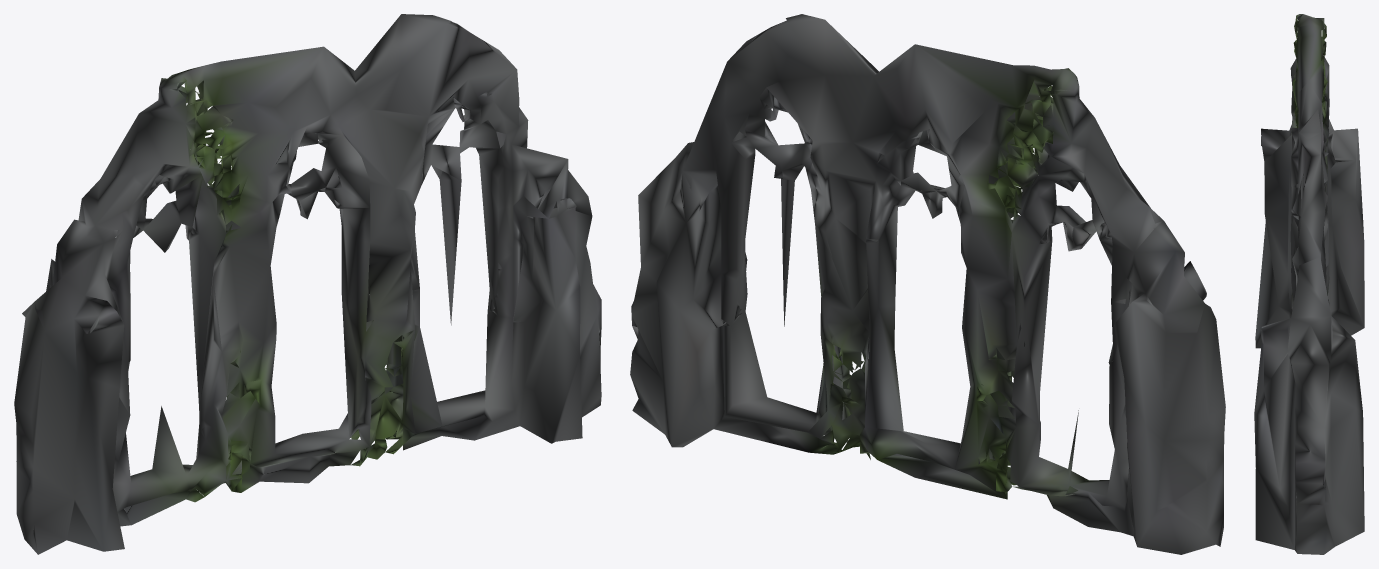
The model's file is hero_wall_lod2.glb.
3 views of the same model, side by side, from view 1: azimuth 30°, elevation 25°; view 2: azimuth 150°, elevation 25°; view 3: azimuth 270°, elevation 25° (orthographic). The views are drawn at different scales.
Parts seen in each view (by area): view 1: hero_wall; view 2: hero_wall; view 3: hero_wall.
Boxes of the visible parts, x1=… form: hero_wall: x1=14, y1=14, x2=601, y2=554; hero_wall: x1=630, y1=14, x2=1225, y2=554; hero_wall: x1=1254, y1=14, x2=1364, y2=554.
Size of the model in its own units: 2.29 by 1.69 by 0.4485.
